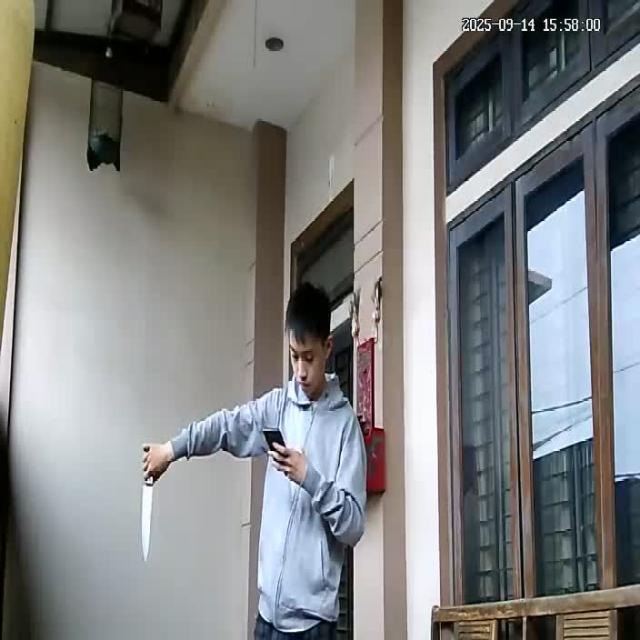senjata_tajam: (139, 481, 154, 563)
